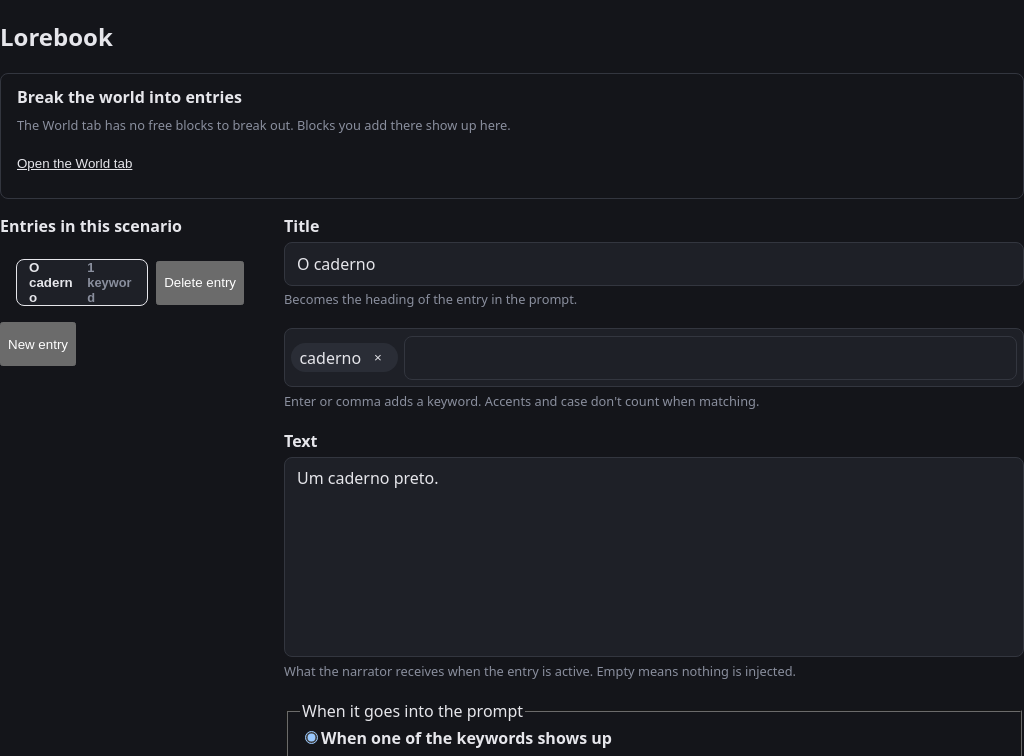
Test: LorebookTab › deletes an entry through the dialog
Click the button "Delete entry" at (200, 283), box [156,261,244,305]
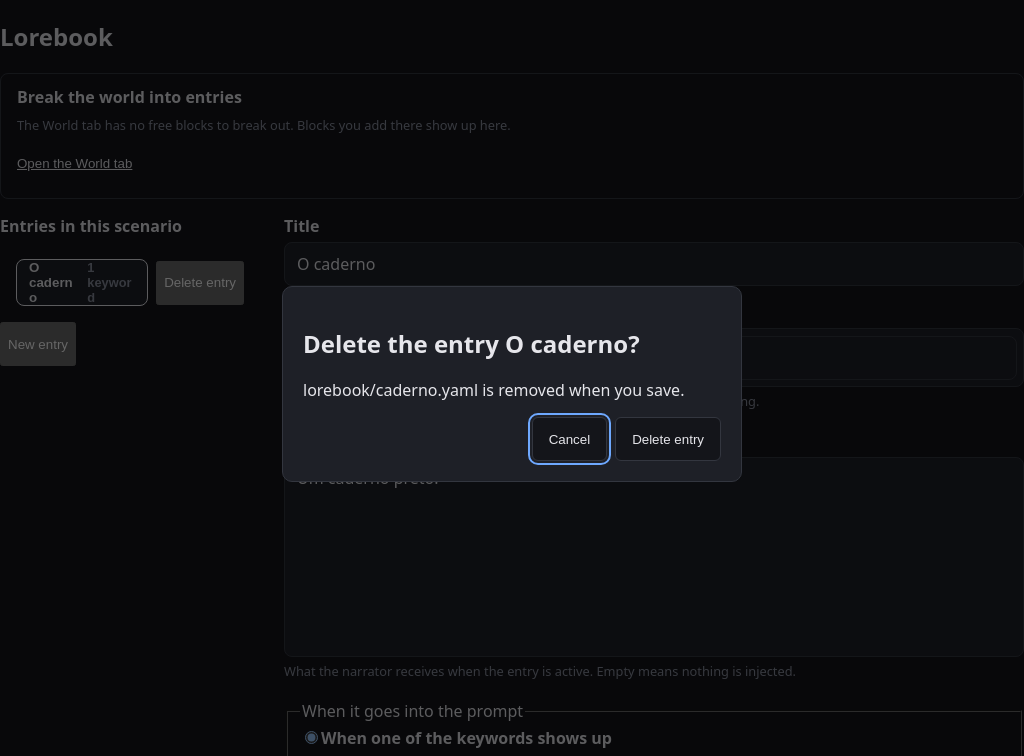
Click the button "Delete entry" at (668, 439), box [615,417,721,461]
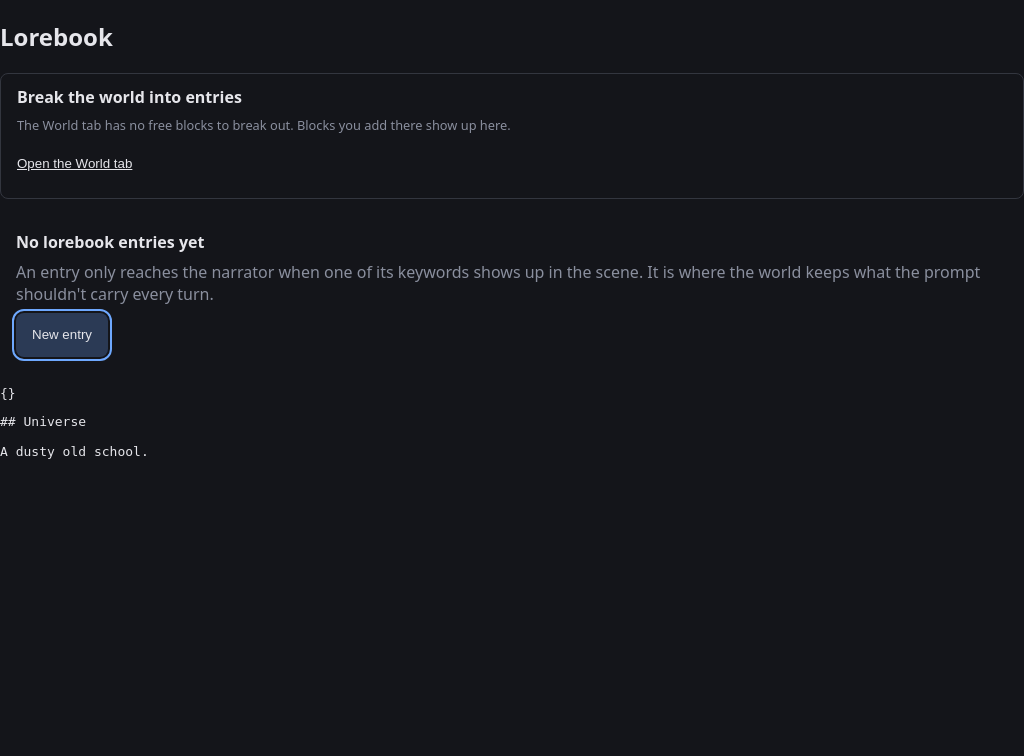
Expected: the text "No lorebook entries yet" is shown, [16,231,204,253]
